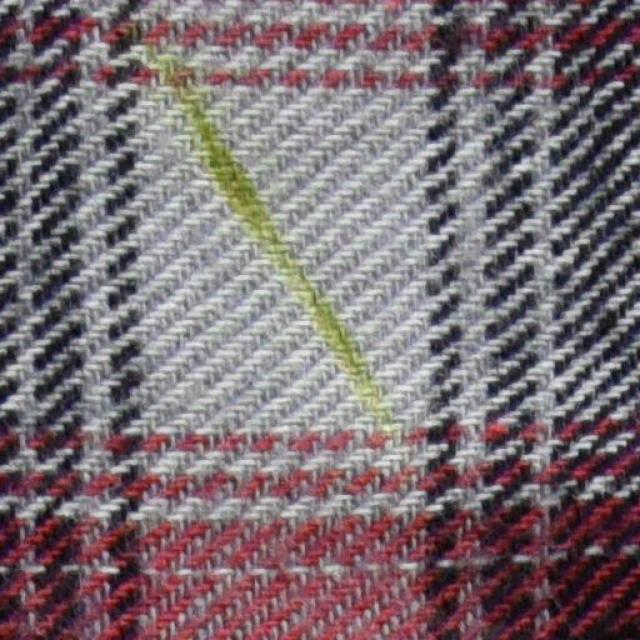stain: (146, 45, 398, 433)
